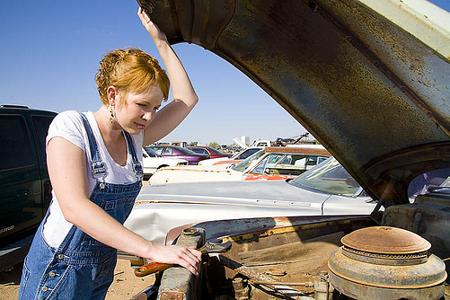person: (16, 7, 203, 300)
